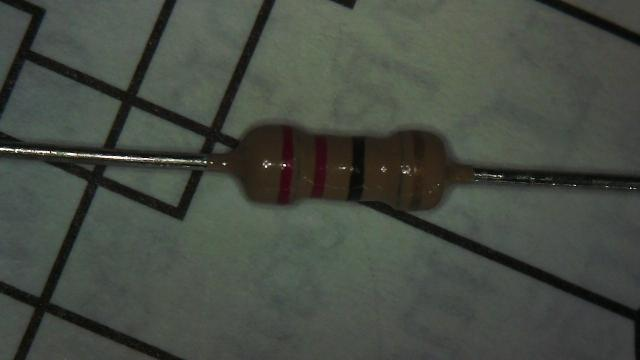black: (348, 136, 364, 200)
gold: (412, 130, 425, 209)
orange: (312, 135, 326, 198)
red: (277, 125, 294, 203)
resistor: (217, 110, 463, 225)
